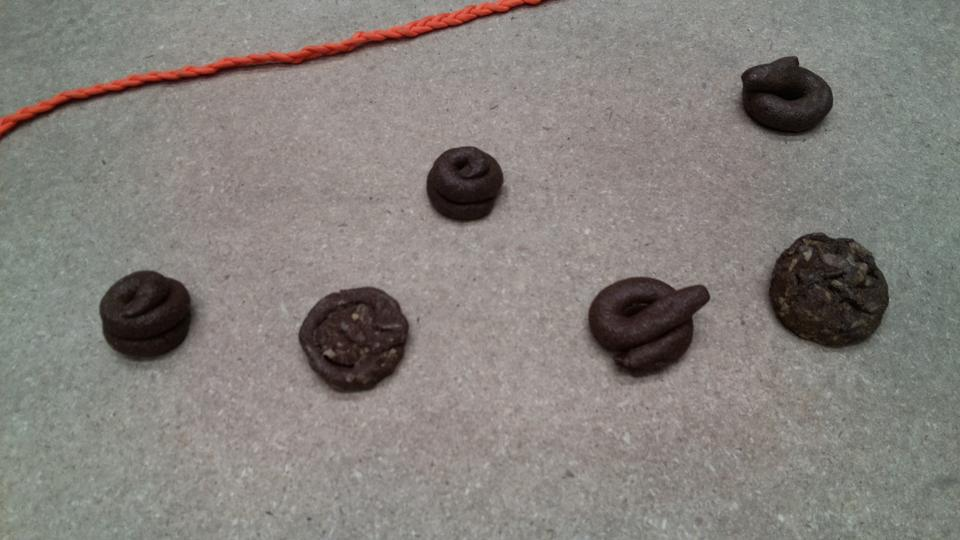poop: (765, 229, 892, 354), (586, 269, 715, 381), (297, 283, 413, 397), (97, 269, 195, 366), (738, 54, 836, 139), (423, 143, 507, 227)
rope: (1, 2, 561, 155)
